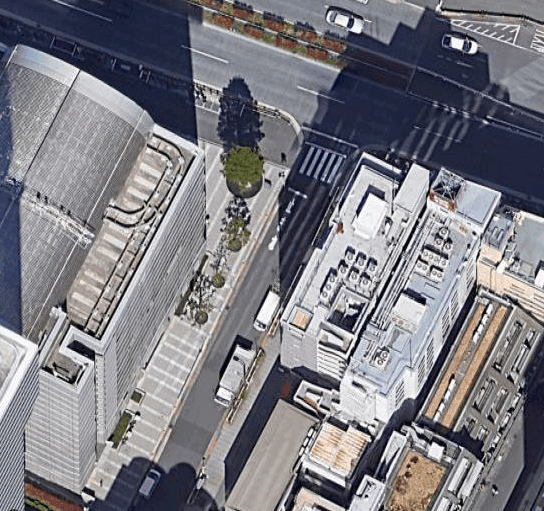facility: (340, 180, 501, 405), (275, 146, 434, 358), (481, 209, 542, 277)
